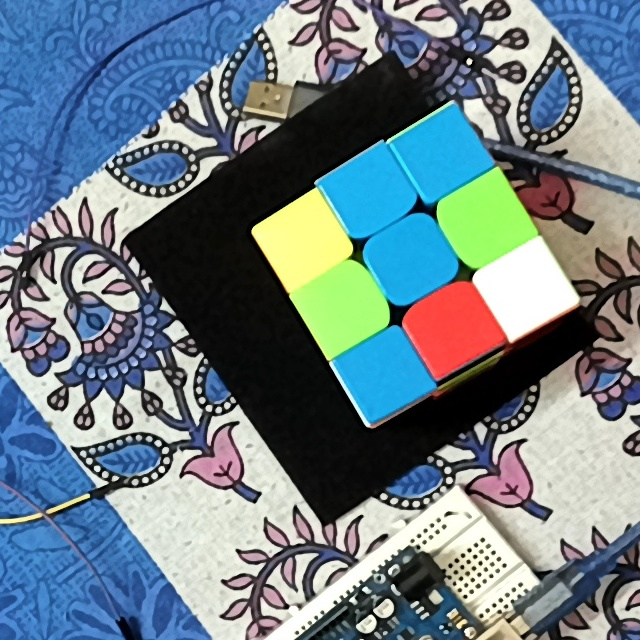tile: (459, 193, 513, 250), (423, 303, 476, 360), (414, 126, 467, 182), (273, 217, 329, 268), (383, 235, 438, 286), (361, 347, 411, 403), (315, 283, 369, 333), (496, 265, 548, 315), (346, 168, 395, 219)
